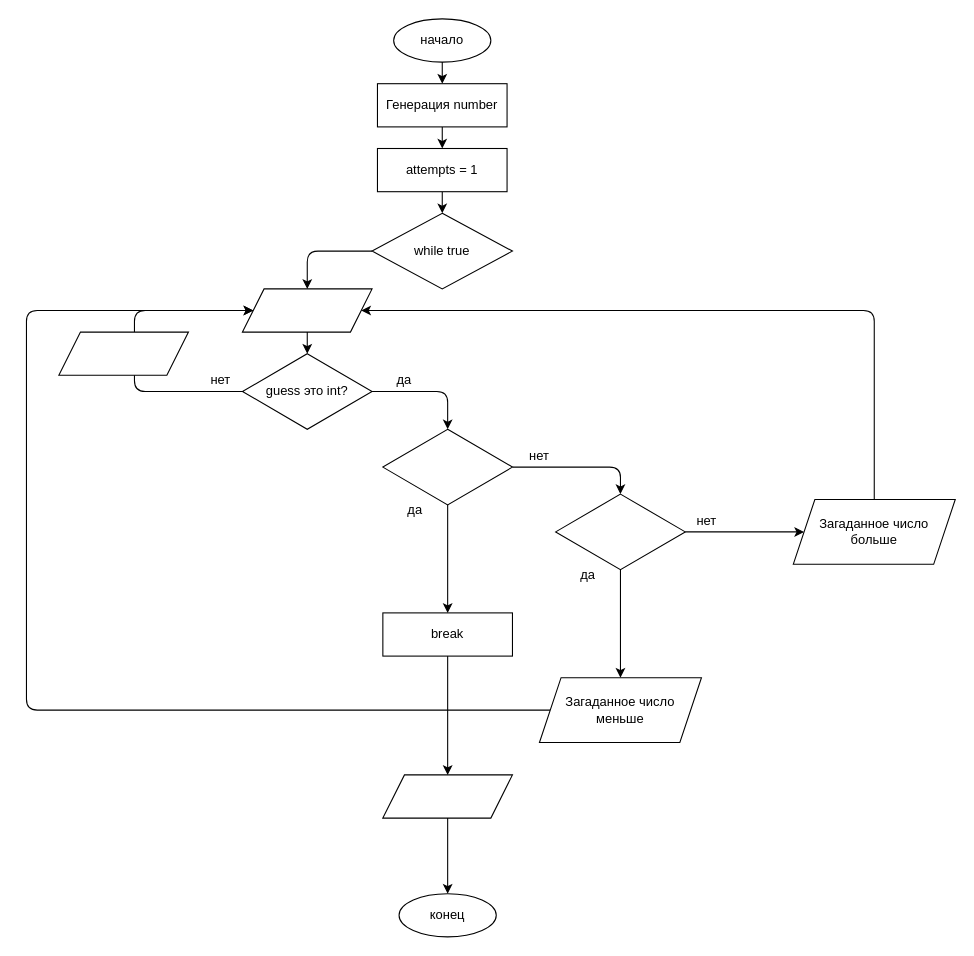
The diagram is 974 pixels wide and 956 high, and some of its shapes have lost their labels. The centre of each missing label's shape, as x and y in pixels:
"guess == number?" goes at pixel 447 466.
"guess > number?" goes at pixel 620 531.
"Ввод guess" goes at pixel 306 310.
"Ошибка" goes at pixel 123 353.
"Статистика" goes at pixel 447 796.
